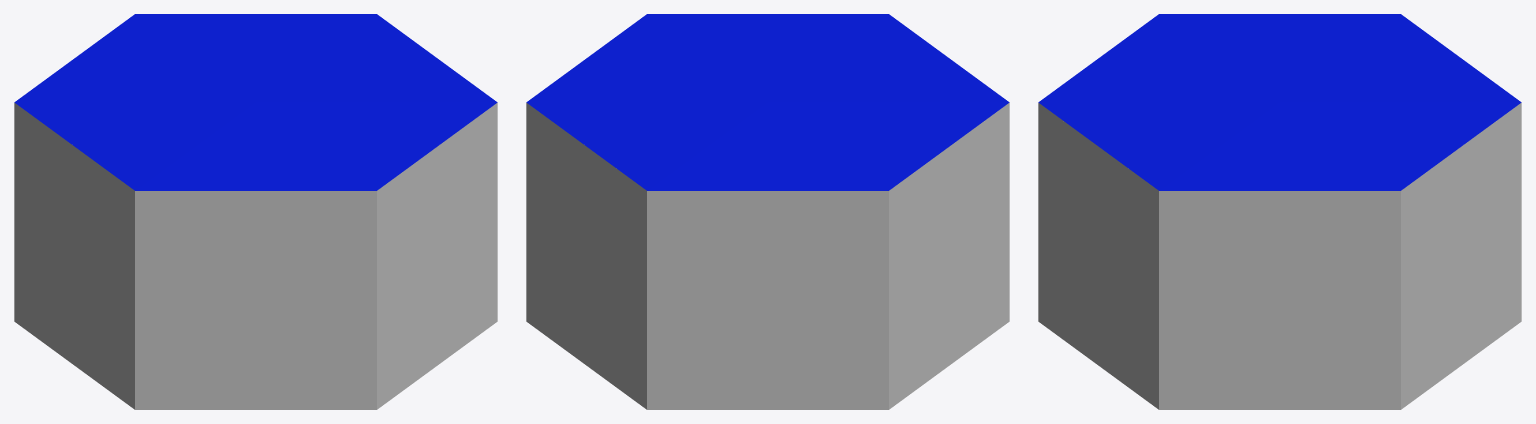
Rendered from Hexagon.fbx.
The picture shows the model from 3 angles, left to right: view 1: azimuth 30°, elevation 25°; view 2: azimuth 150°, elevation 25°; view 3: azimuth 270°, elevation 25°; orthographic projection.
Parts seen in each view (by area): view 1: Cylinder.002; view 2: Cylinder.002; view 3: Cylinder.002.
Boxes of the visible parts, <box> form: Cylinder.002: <box>14,14,497,409</box>; Cylinder.002: <box>526,14,1009,409</box>; Cylinder.002: <box>1038,14,1521,409</box>.
Size of the model in its own units: 1.73 by 1 by 2.
